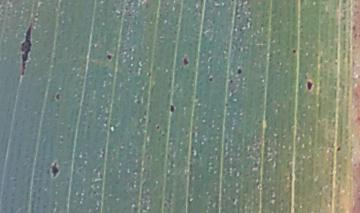tarspot: (15, 20, 38, 83), (45, 156, 64, 180), (303, 76, 317, 95), (179, 51, 192, 71), (165, 101, 179, 115), (104, 50, 116, 64), (204, 72, 216, 86), (52, 90, 64, 102), (233, 63, 244, 76), (226, 75, 237, 87), (151, 120, 162, 132), (290, 45, 299, 57), (334, 143, 342, 156)
